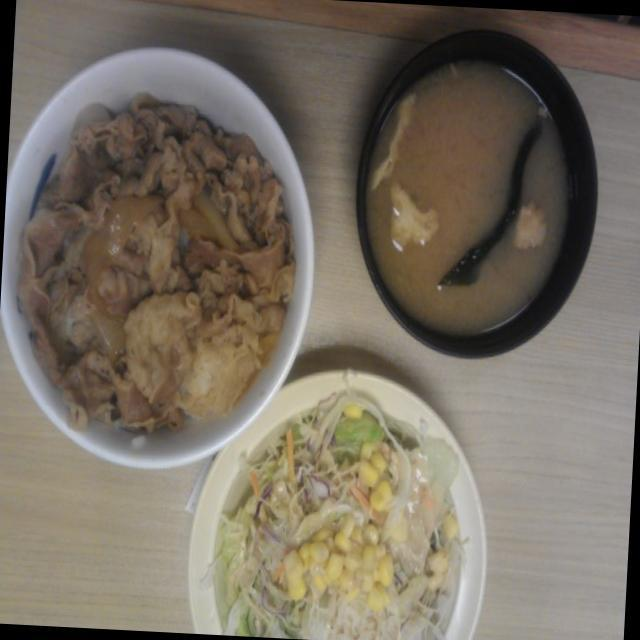Green Salad: (214, 421, 483, 640)
